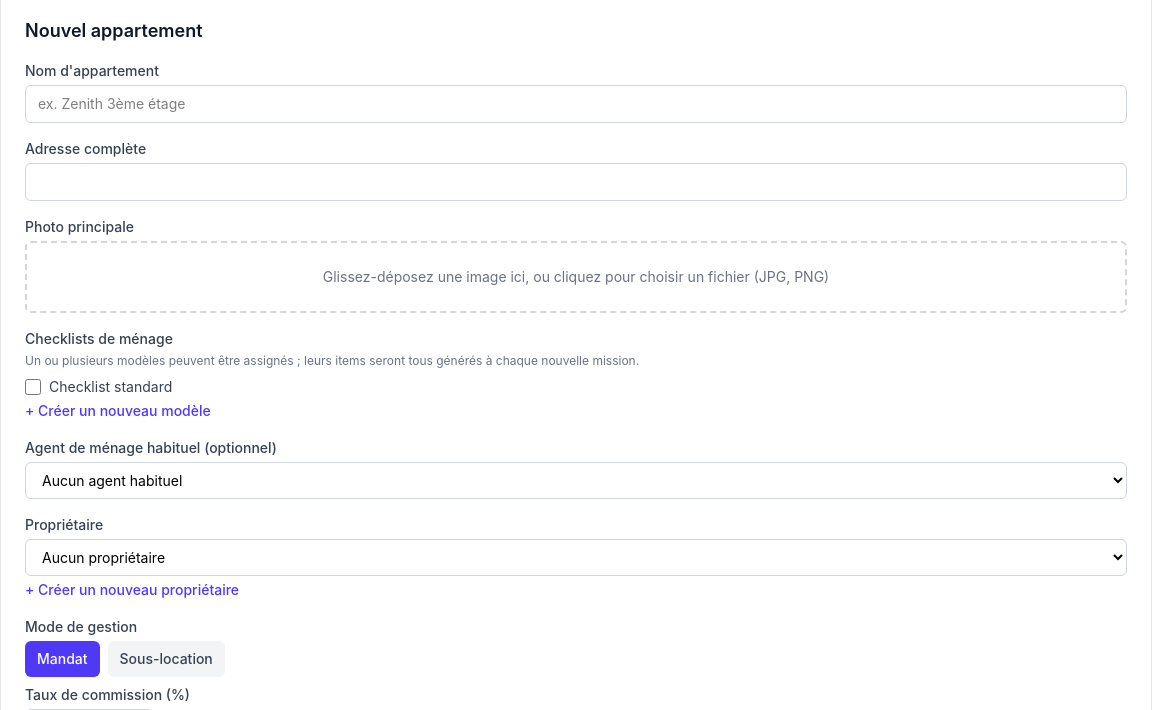
NouvelAppartementForm › bascule entre taux de commission (mandat) et loyer fixe (sous-location)
This screenshot has width=1152, height=710.
Expected: the field labelled "loyer fixe mensuel" is not shown
Click the button "Sous-location" at (166, 659), box [108, 641, 225, 677]
(page scrolled)
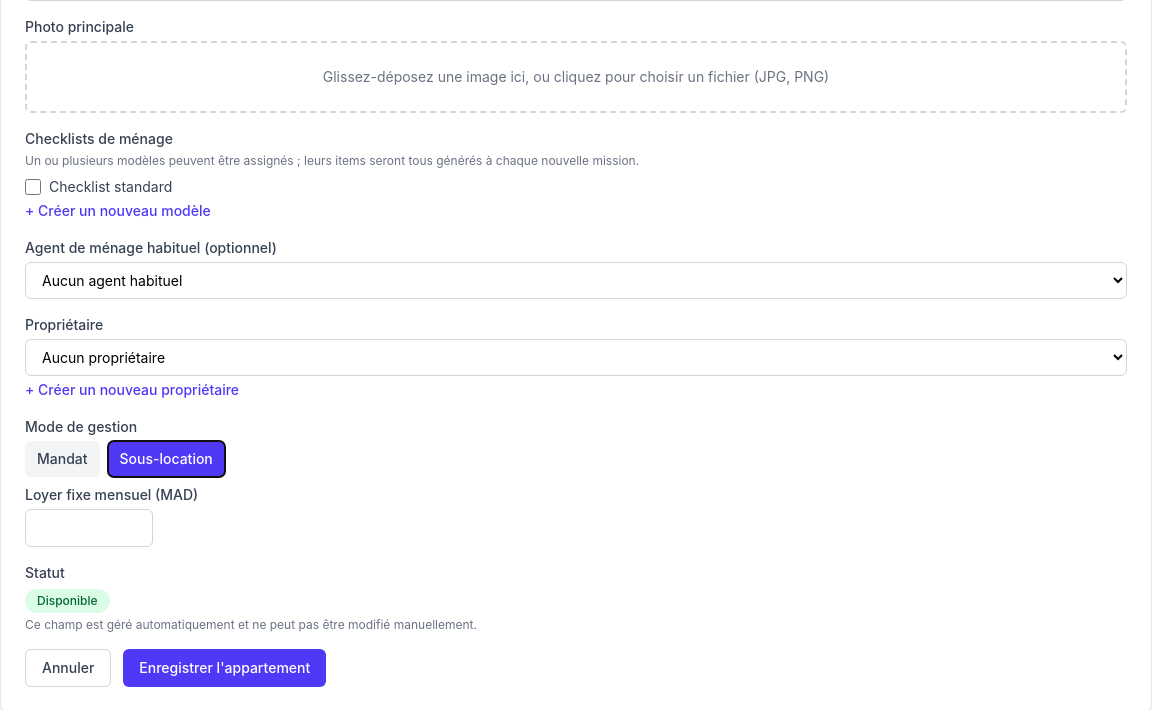
Expected: the number field labelled "Loyer fixe mensuel (MAD)" is shown, [25, 509, 153, 547]
Expected: the label labelled "Taux de commission" is gone
